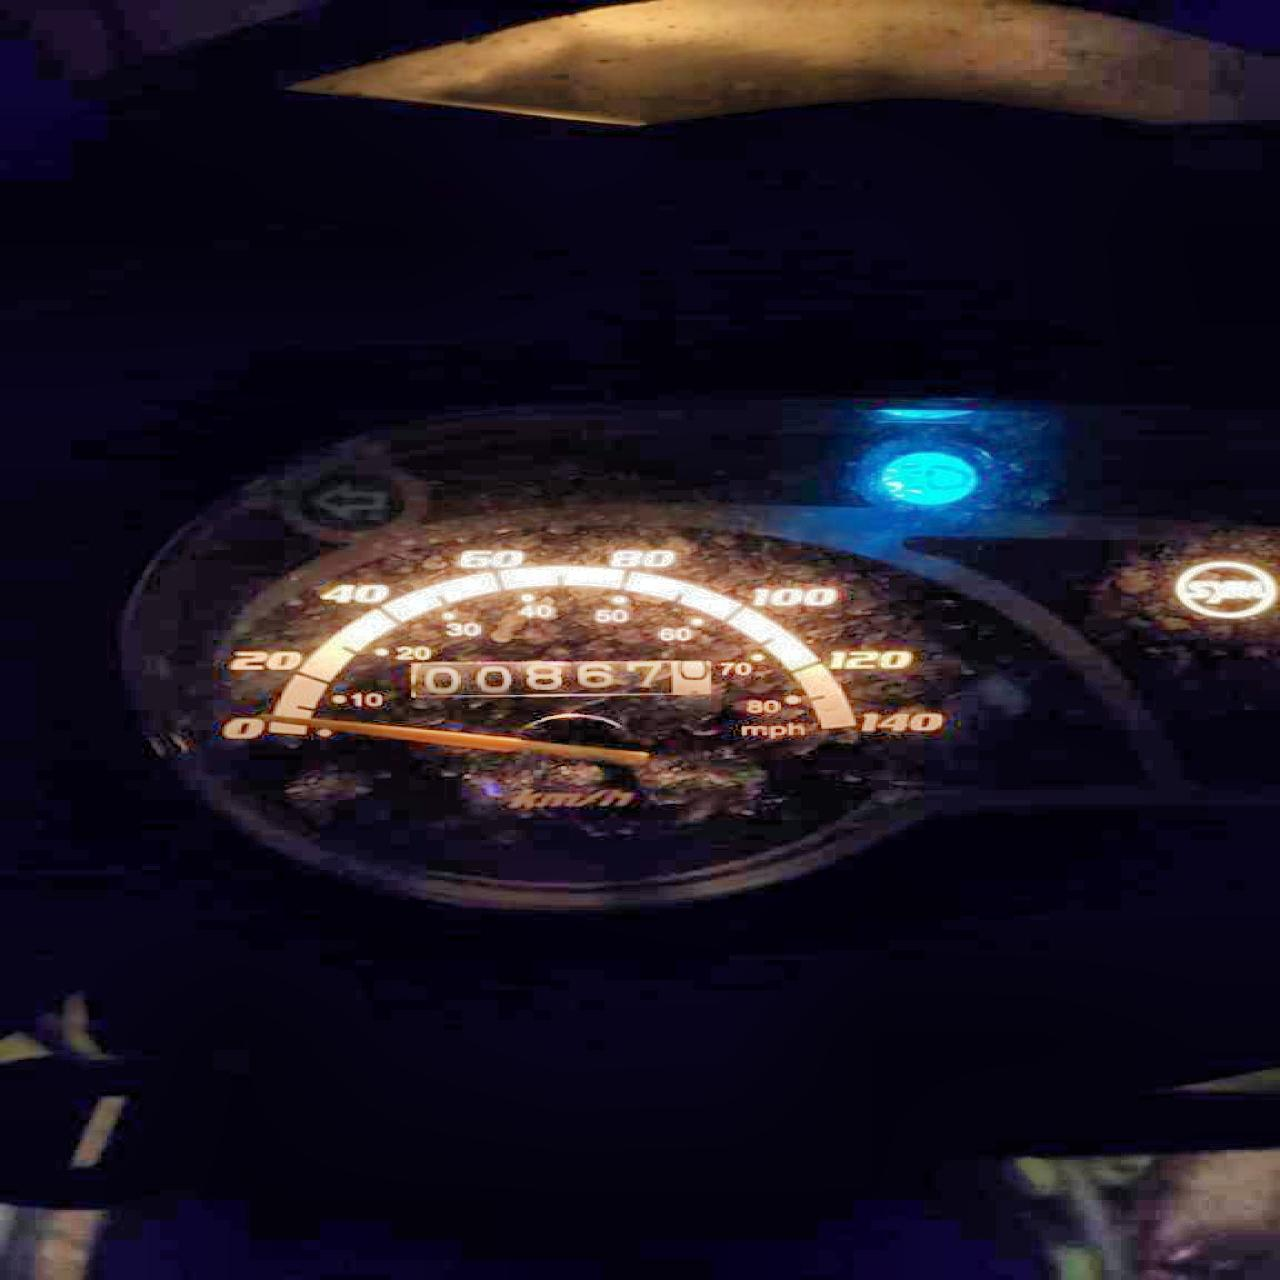0: (474, 662, 513, 694), (420, 665, 459, 695), (674, 658, 714, 685)
6: (571, 659, 615, 688)
7: (622, 659, 662, 688)
8: (522, 661, 561, 690)
odometer: (402, 656, 720, 700)
